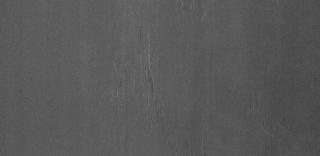silk spot: (90, 33, 182, 105)
